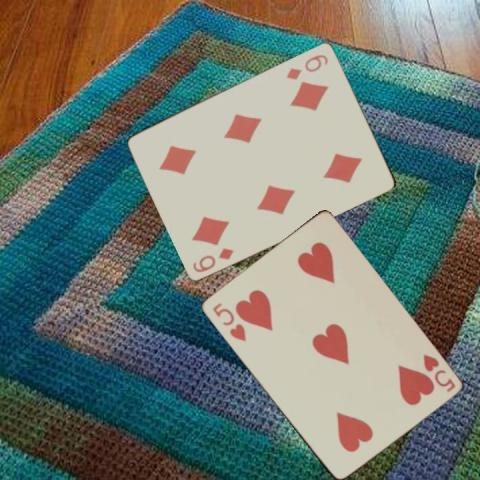5h: (209, 300, 248, 344), (419, 351, 456, 394)
6d: (283, 50, 330, 80), (189, 245, 236, 274)
